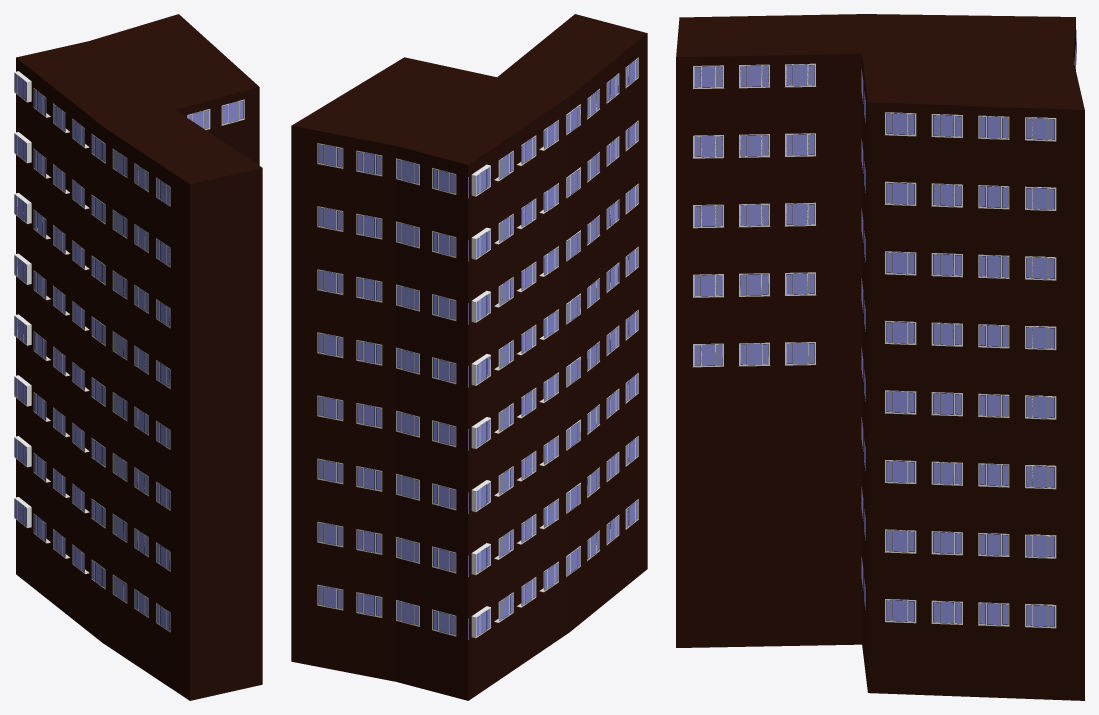
Rendered from 2WestminsterRoad.fbx.
3 views of the same model, side by side, from view 1: azimuth 30°, elevation 25°; view 2: azimuth 150°, elevation 25°; view 3: azimuth 270°, elevation 25° (orthographic). The views are drawn at different scales.
Parts seen in each view (by area): view 1: 2WestminsterRoad, Window.003, Window.001; view 2: 2WestminsterRoad, Window.003, Window.004; view 3: 2WestminsterRoad, Window, Window.002, Window.001.
Boxes of the visible parts, x1,y1,x2,y2 form: 2WestminsterRoad: (16,14,262,700); Window.003: (14,71,170,632); Window.001: (187,99,244,129); 2WestminsterRoad: (291,14,647,700); Window.003: (471,57,638,638); Window.004: (317,143,468,639); 2WestminsterRoad: (676,14,1084,700); Window: (884,112,1056,628); Window.002: (693,63,816,367); Window.001: (861,70,865,609).
Bounding box in the file's own units: 1858 × 5200 × 3260.
